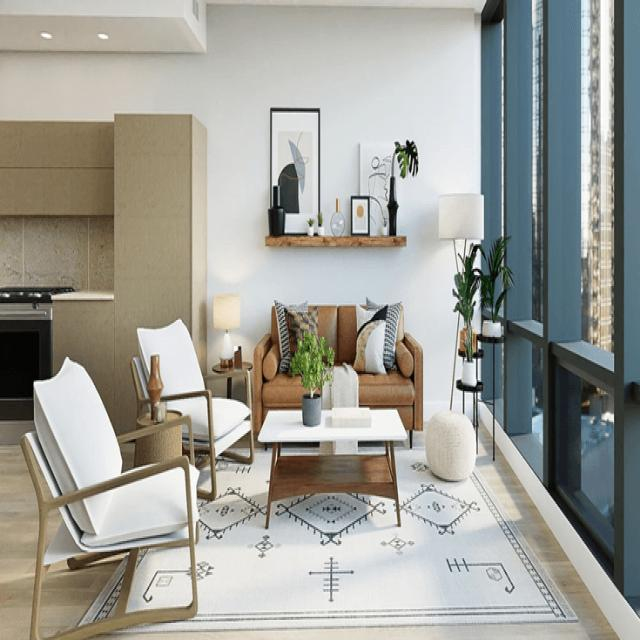modern chair: (17, 353, 201, 636)
modern desk: (255, 396, 407, 534)
modern sofa: (251, 298, 425, 397)
